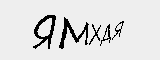Д: (100, 21, 112, 46)
М: (61, 17, 89, 49)
Х: (91, 23, 101, 46)
Я: (26, 11, 55, 50), (112, 19, 127, 42)
